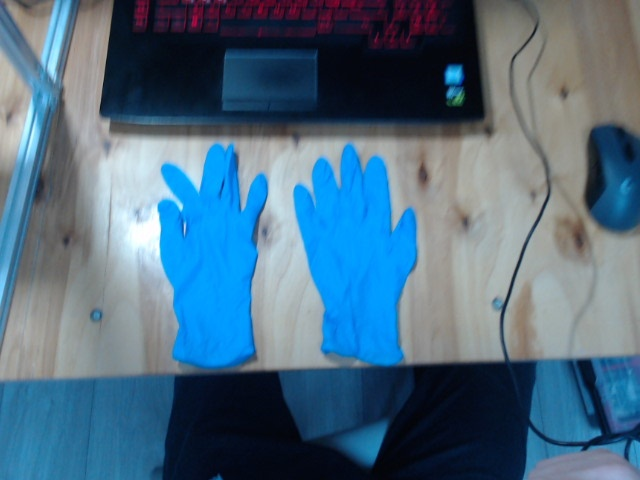medical_glove: (293, 145, 415, 365), (158, 143, 268, 367)
